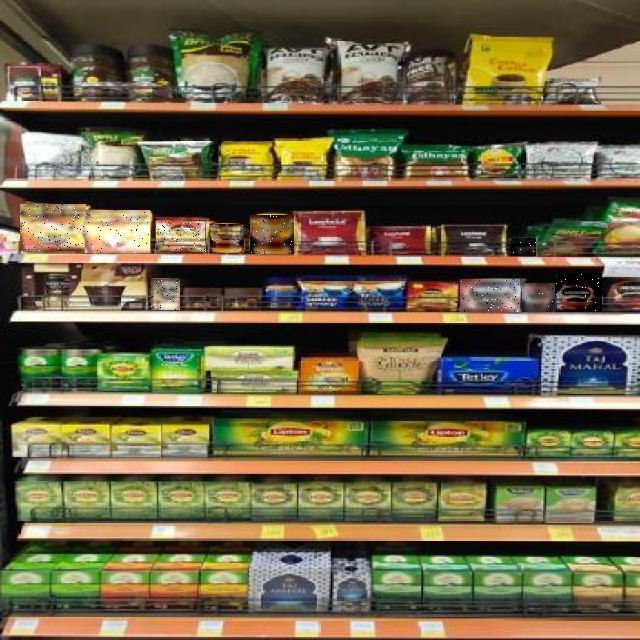Coffee: (20, 204, 86, 251), (85, 210, 150, 253), (460, 279, 520, 312), (556, 273, 602, 312), (251, 215, 295, 254), (156, 220, 206, 252), (210, 224, 244, 253), (522, 283, 555, 312), (151, 279, 180, 310), (509, 238, 536, 256)
